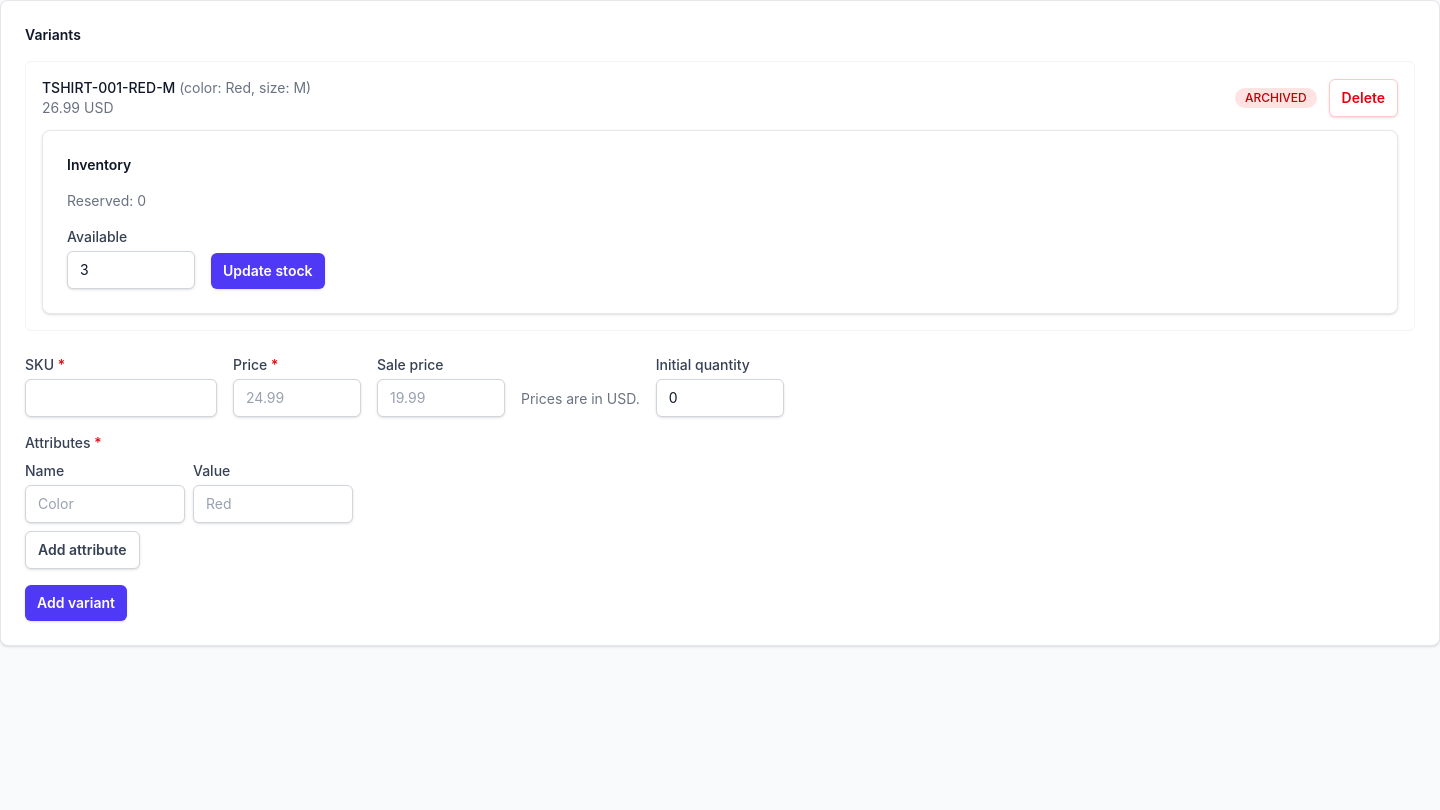
Scenario: ProductVariantsEditor › asks for confirmation and permanently deletes an archived variant
Click the button "Delete".
click(1363, 98)  # box [1329,79,1398,117]
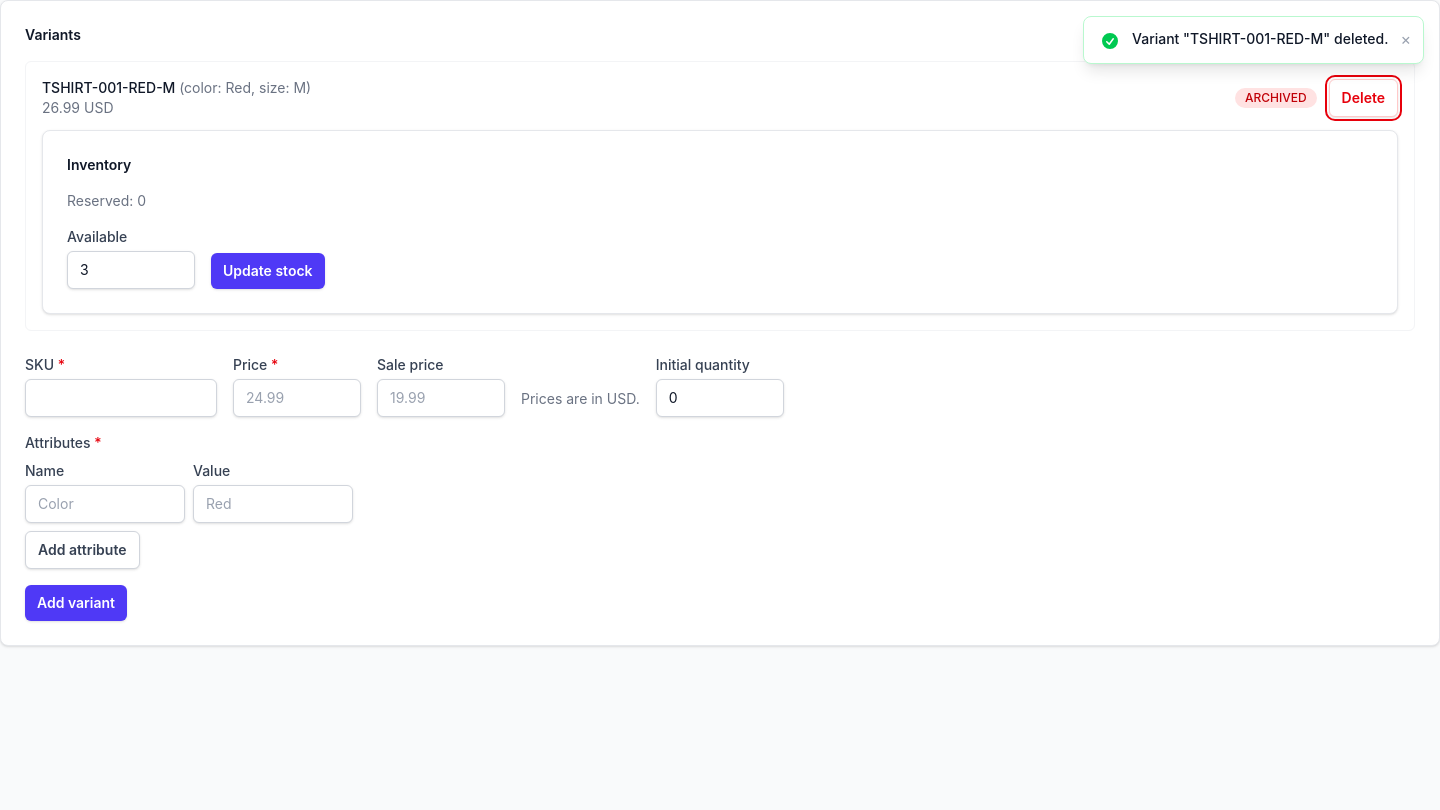
Result: the text "Variant \"TSHIRT-001-RED-M\" deleted." is shown at [1132,29,1388,49]
